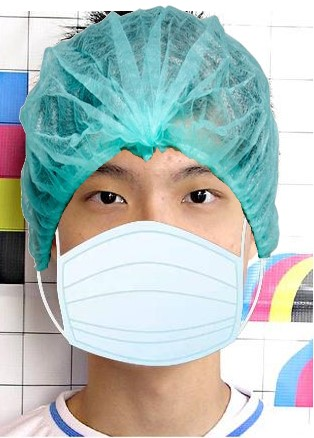with_mask_and_cap: (20, 4, 277, 366)
